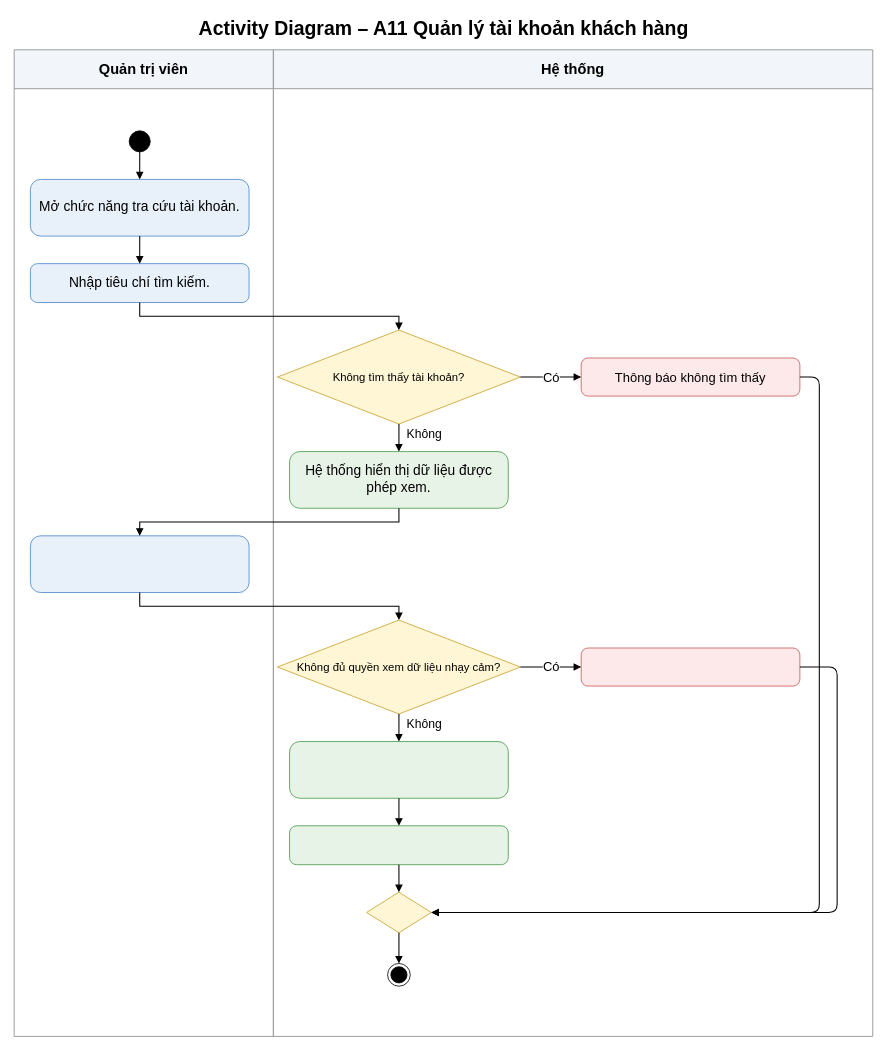
This 887x1051 diagram has some shape labels left out. The box of each missing label's shape, as (x1, y1, x2, y2) in pixels:
Hệ thống ghi nhật ký.: (289, 825, 508, 865)
Quản trị viên xem trạng thái và lịch sử hỗ trợ.: (30, 535, 249, 593)
Thực hiện thao tác hỗ trợ được cấp quyền.: (289, 741, 508, 798)
Ẩn/chặn thao tác: (580, 647, 800, 686)
